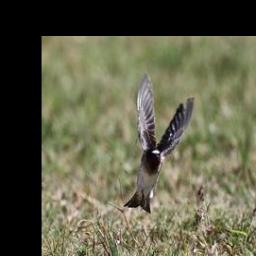Swallow: (125, 71, 195, 213)
